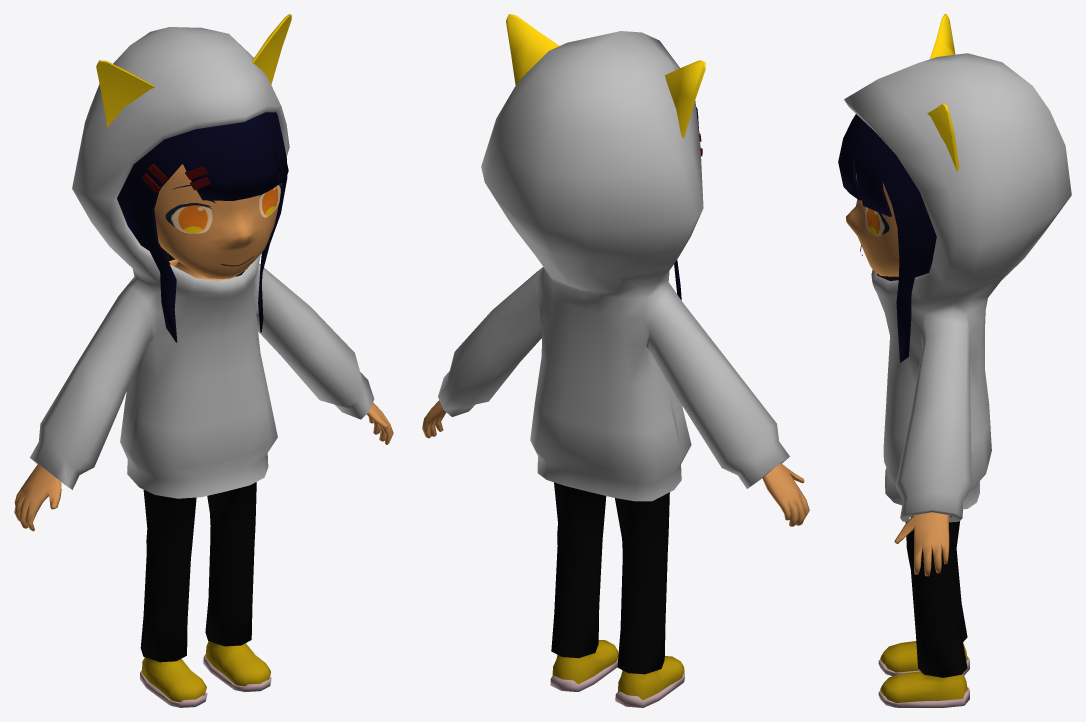
File: char3.gltf
The picture shows the model from 3 angles, left to right: view 1: azimuth 30°, elevation 25°; view 2: azimuth 150°, elevation 25°; view 3: azimuth 270°, elevation 25°; orthographic projection. The views are drawn at different scales.
Visible parts, largest first — view 1: ElaModel; view 2: ElaModel; view 3: ElaModel.
Boxes of the visible parts, bbox=[...] form: ElaModel: bbox=[14, 14, 393, 707]; ElaModel: bbox=[422, 14, 809, 707]; ElaModel: bbox=[838, 14, 1071, 707].
Bounding box in the file's own units: 1.21 × 1.99 × 0.6744.
Materials: 5 (5 with a texture image).
